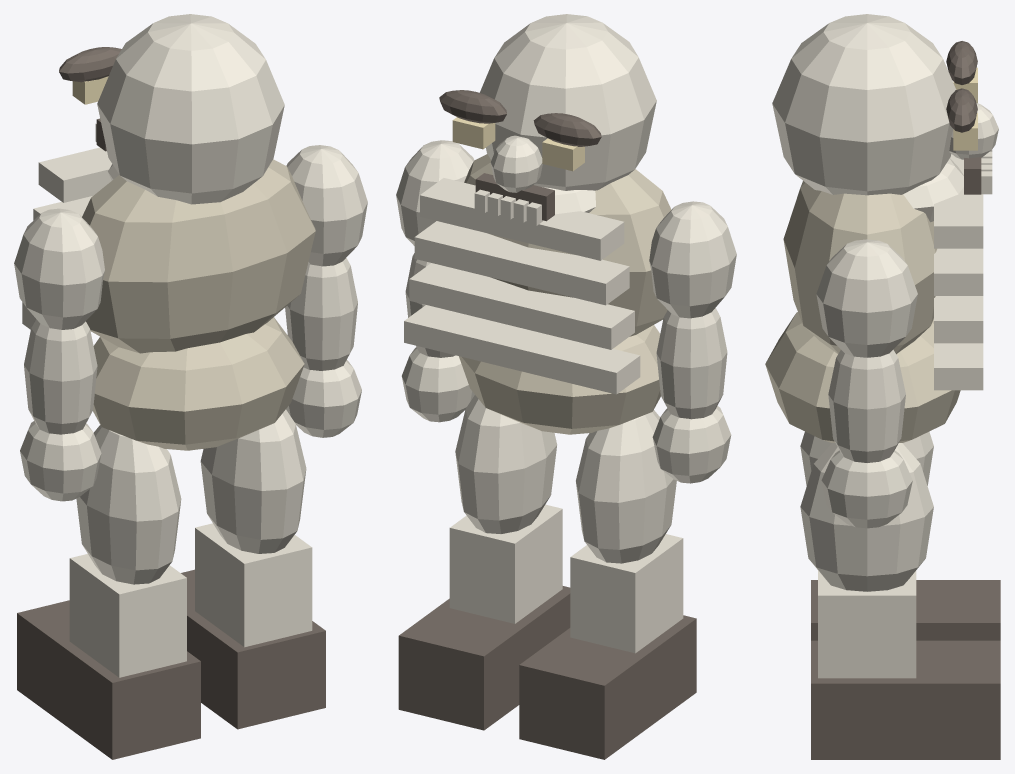
Rendered from archer.gltf.
The picture shows the model from 3 angles, left to right: view 1: azimuth 30°, elevation 25°; view 2: azimuth 150°, elevation 25°; view 3: azimuth 270°, elevation 25°; orthographic projection. The views are drawn at different scales.
Visible parts, largest first — view 1: Part2, Part8, Part1, Part26, Part24, Part32, Part30, Part31, Part25, Part21, Part22, Part27 (+6 smaller); view 2: Part8, Part26, Part32, Part24, Part30, Part31, Part25, Part1, Part3, Part4, Part5, Part21 (+14 smaller); view 3: Part8, Part32, Part2, Part30, Part1, Part27, Part31, Part28, Part26, Part29, Part6, Part3 (+9 smaller).
Boxes of the visible parts, bbox=[...] form: Part2: bbox=[82, 159, 315, 353]; Part8: bbox=[97, 14, 284, 204]; Part1: bbox=[93, 317, 304, 450]; Part26: bbox=[17, 600, 200, 759]; Part24: bbox=[76, 425, 181, 584]; Part32: bbox=[181, 569, 325, 729]; Part30: bbox=[200, 409, 306, 553]; Part31: bbox=[195, 523, 312, 647]; Part25: bbox=[69, 554, 186, 677]; Part21: bbox=[14, 208, 104, 329]; Part22: bbox=[24, 319, 97, 434]; Part27: bbox=[286, 145, 367, 266]; Part8: bbox=[479, 14, 656, 190]; Part26: bbox=[519, 615, 696, 759]; Part32: bbox=[398, 586, 570, 730]; Part24: bbox=[576, 410, 676, 563]; Part30: bbox=[455, 395, 557, 533]; Part31: bbox=[449, 504, 562, 623]; Part25: bbox=[570, 534, 683, 653]; Part1: bbox=[459, 325, 660, 434]; Part3: bbox=[404, 305, 640, 394]; Part4: bbox=[409, 263, 634, 349]; Part5: bbox=[414, 221, 629, 305]; Part21: bbox=[649, 201, 736, 318]; Part8: bbox=[772, 14, 956, 195]; Part32: bbox=[811, 640, 1000, 759]; Part2: bbox=[783, 181, 936, 354]; Part30: bbox=[800, 443, 933, 591]; Part1: bbox=[765, 312, 960, 442]; Part27: bbox=[816, 239, 917, 357]; Part31: bbox=[818, 570, 916, 678]; Part28: bbox=[828, 349, 905, 462]; Part26: bbox=[811, 580, 1000, 640]; Part29: bbox=[821, 450, 912, 528]; Part6: bbox=[934, 154, 983, 248]; Part3: bbox=[934, 343, 983, 390].
Bounding box in the file's own units: 0.5525 × 1.08 × 0.335.
